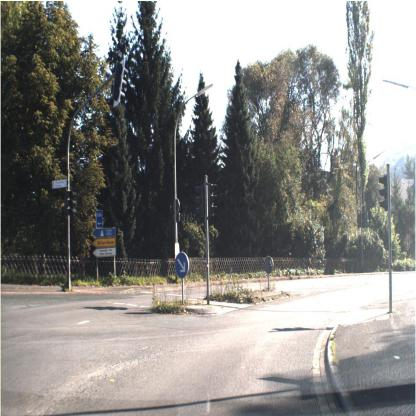mandatory: (172, 247, 191, 282)
